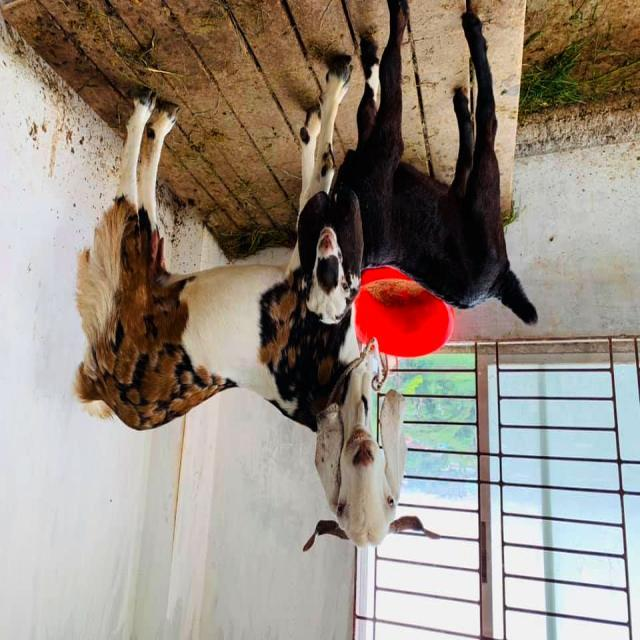Goat: (74, 57, 443, 555), (304, 2, 540, 329)
